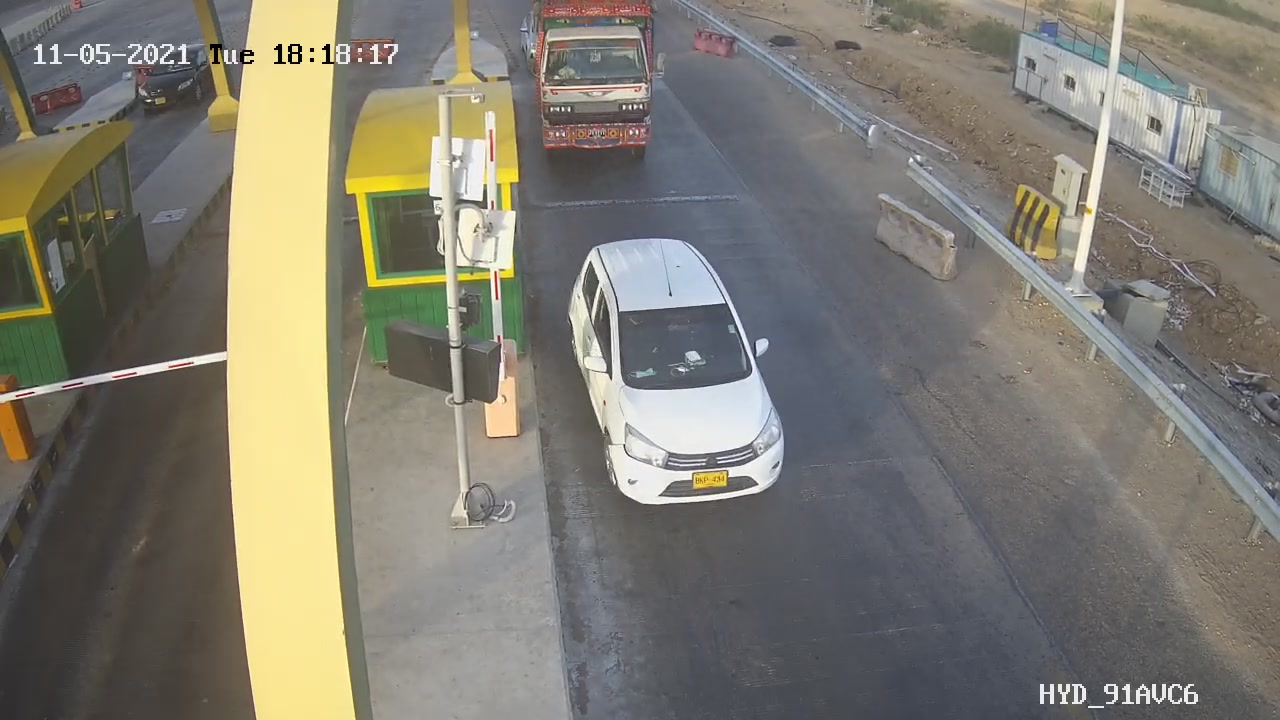F1: (557, 226, 805, 509)
